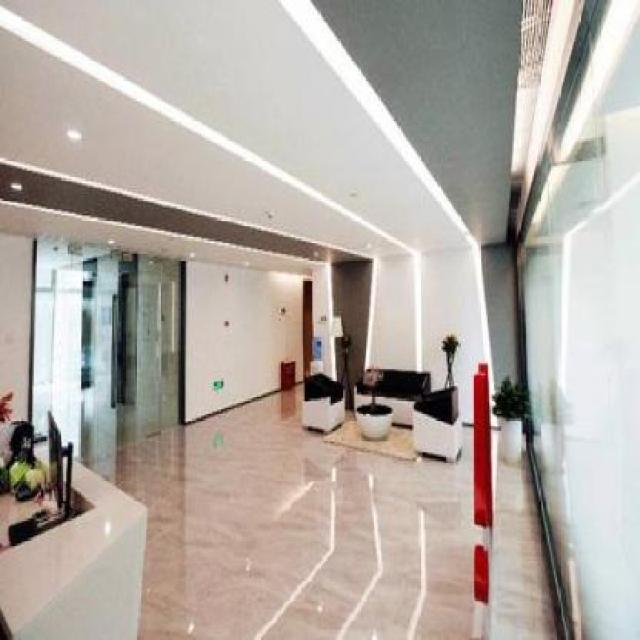frontdesk: (0, 417, 166, 638)
